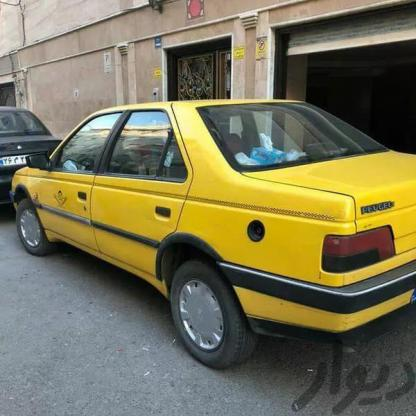Car: (0, 96, 416, 380), (0, 92, 77, 223)
